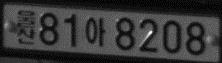0: (161, 18, 181, 53)
1: (62, 13, 81, 47)
2: (138, 18, 158, 53)
8: (185, 20, 206, 57), (114, 17, 135, 50), (38, 12, 58, 45)
아: (85, 16, 105, 47)
울산_V: (16, 8, 36, 45)
